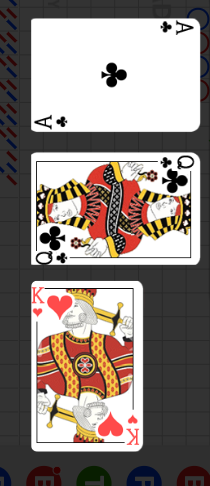AC: (33, 112, 71, 130)
KH: (125, 413, 141, 447), (31, 285, 45, 319)
QC: (31, 219, 78, 263), (152, 152, 198, 196)
